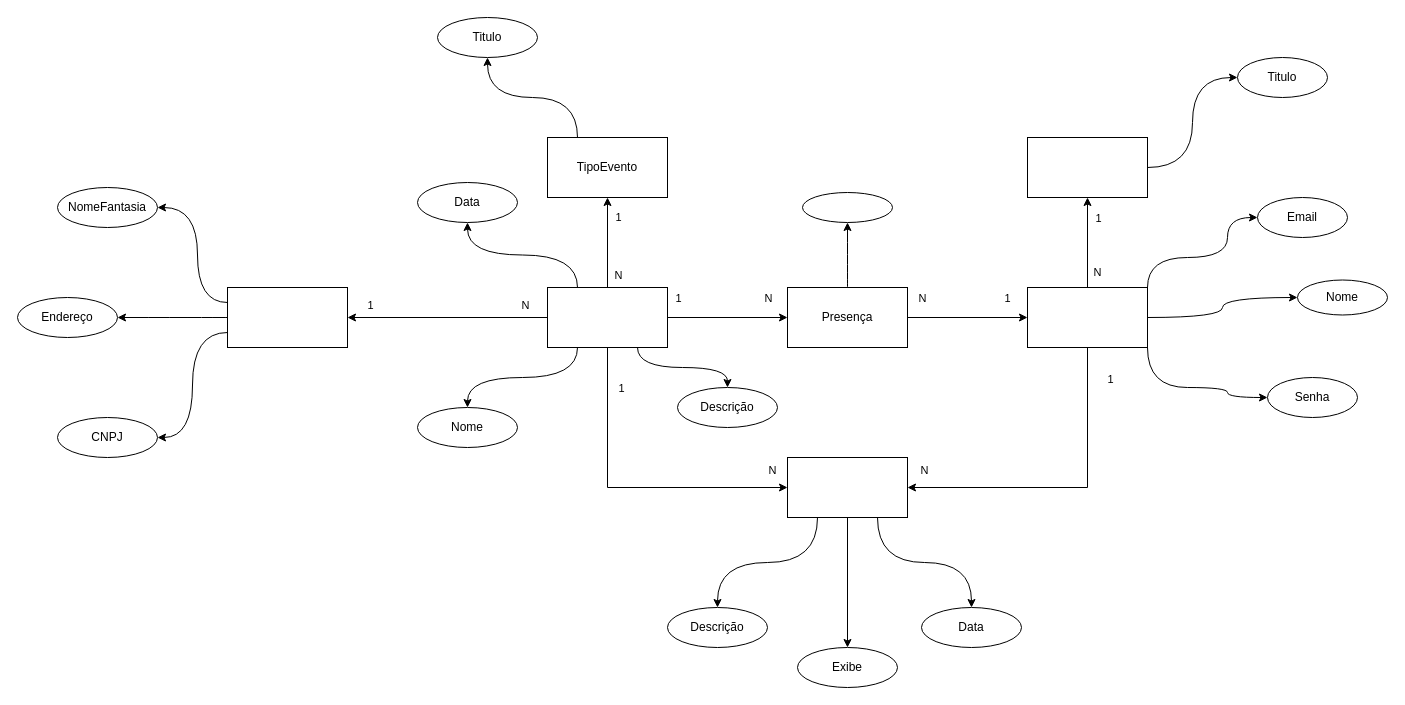
The diagram is 1405 pixels wide and 705 high, and some of its shapes have lost their labels. Each missing label, with the centre of its shape:
"ComentarioEvento" belongs at (847,487).
"Evento" belongs at (607,317).
"Instituição" belongs at (287,317).
"Situação" belongs at (847,207).
"TipoUsuário" belongs at (1087,167).
"Usuário" belongs at (1087,317).
